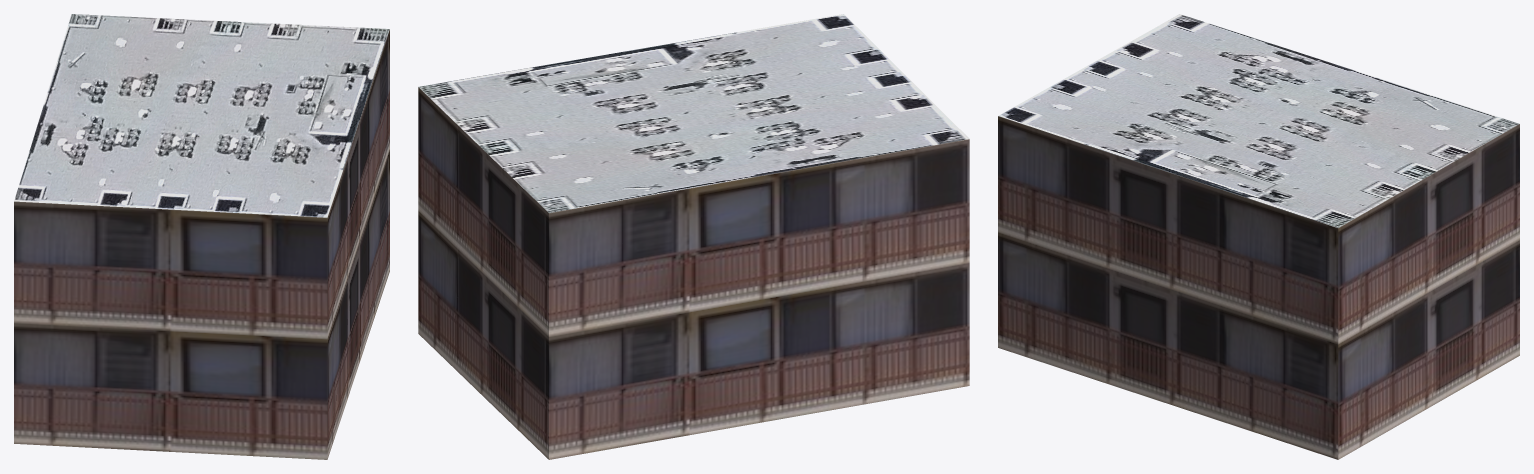
File: ResTex__3200.fbx
3 views of the same model, side by side, from view 1: azimuth 30°, elevation 25°; view 2: azimuth 150°, elevation 25°; view 3: azimuth 270°, elevation 25° (orthographic). The views are drawn at different scales.
Parts seen in each view (by area): view 1: CityEngineMaterial_6_m, CityEngineMaterial_8_m; view 2: CityEngineMaterial_6_m, CityEngineMaterial_8_m; view 3: CityEngineMaterial_6_m, CityEngineMaterial_8_m.
Part boxes in pixels (x1,y1,x2,y2): CityEngineMaterial_6_m: (14, 29, 389, 459); CityEngineMaterial_8_m: (14, 14, 389, 217); CityEngineMaterial_6_m: (418, 87, 969, 459); CityEngineMaterial_8_m: (418, 14, 969, 212); CityEngineMaterial_6_m: (998, 116, 1519, 459); CityEngineMaterial_8_m: (998, 14, 1519, 227).
Bounding box in the file's own units: 11.89 × 6 × 12.24.
2 materials, 2 textured.
